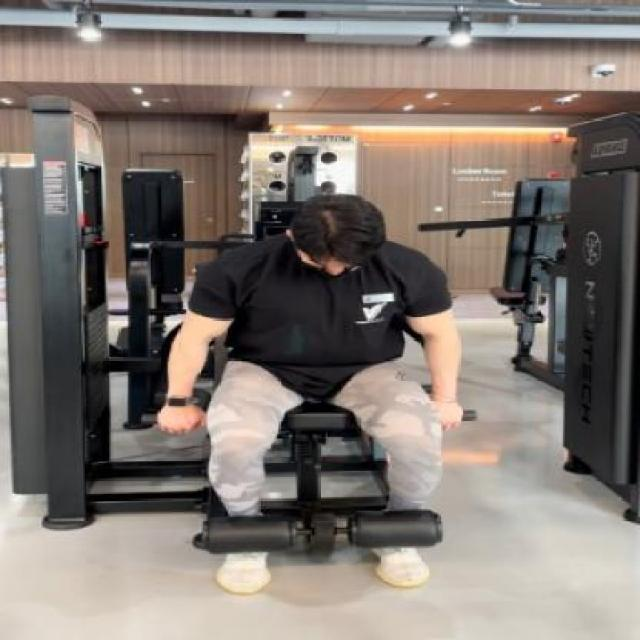seated dip machine: (32, 189, 476, 591)
